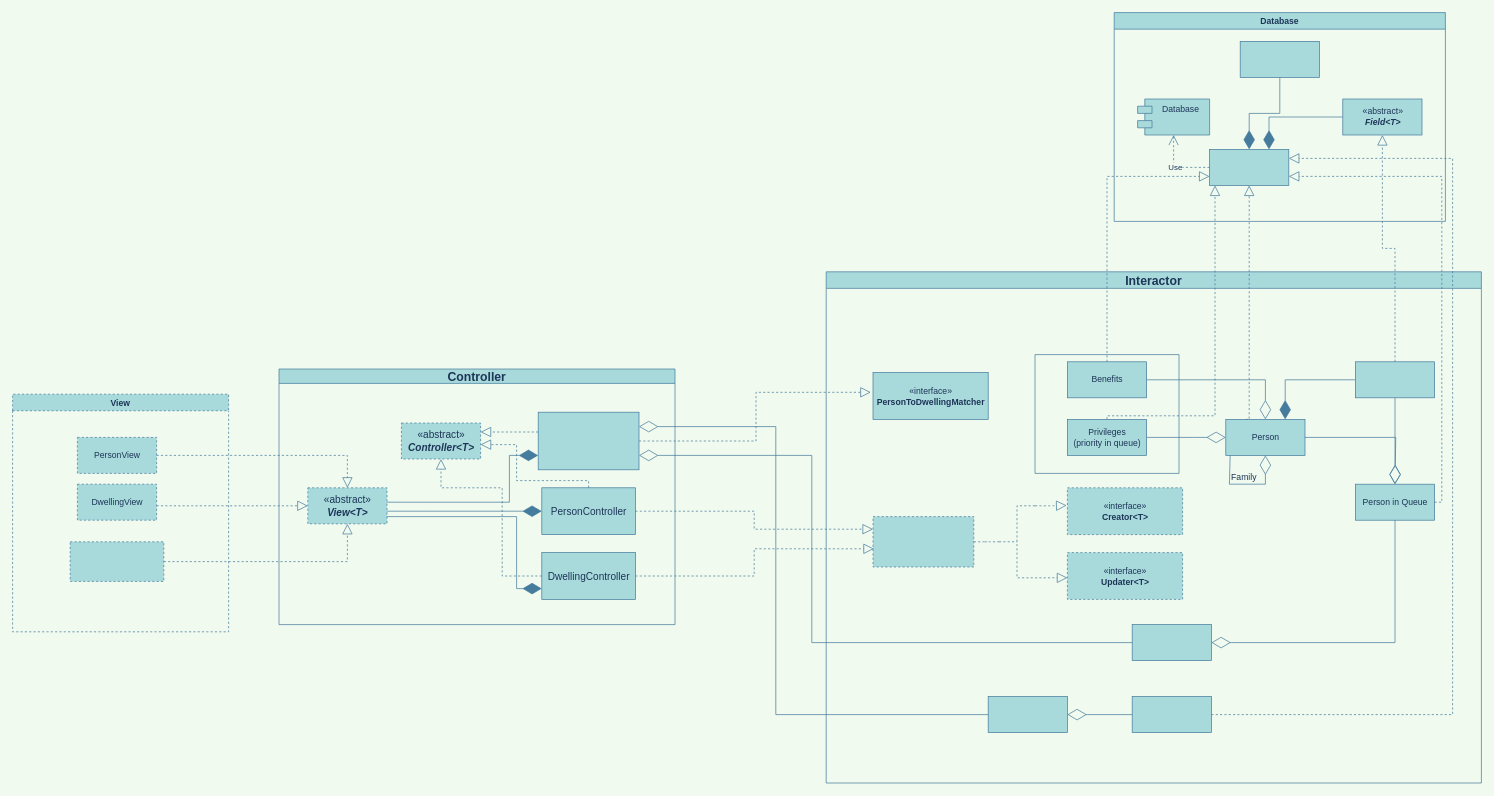
Image size: 1494x796. Some labels were removed from this diagram. Here are the shapes that lost their labels. From the top down, the box of each, then its label:
(1239, 41, 1319, 77): «abstract» ModelManager
(1209, 149, 1289, 185): «abstract» Model
(1355, 361, 1435, 398): Date
(537, 411, 639, 470): PersonInQueue Controller
(69, 541, 164, 581): PersonInQueueView
(872, 516, 974, 567): «interface» Editor<T>
(1131, 624, 1211, 661): Queue
(987, 696, 1067, 733): Dwellings
(1131, 696, 1211, 733): Dwelling
